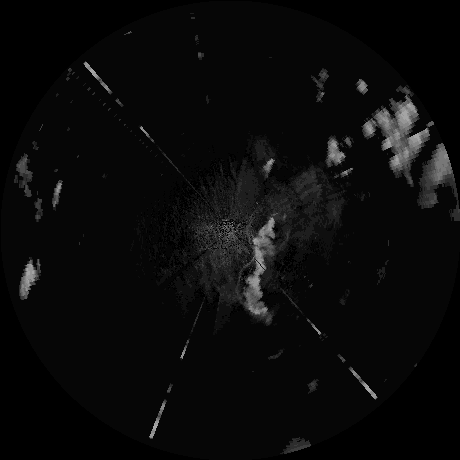frontgust: (235, 259, 252, 308), (245, 205, 260, 249)
